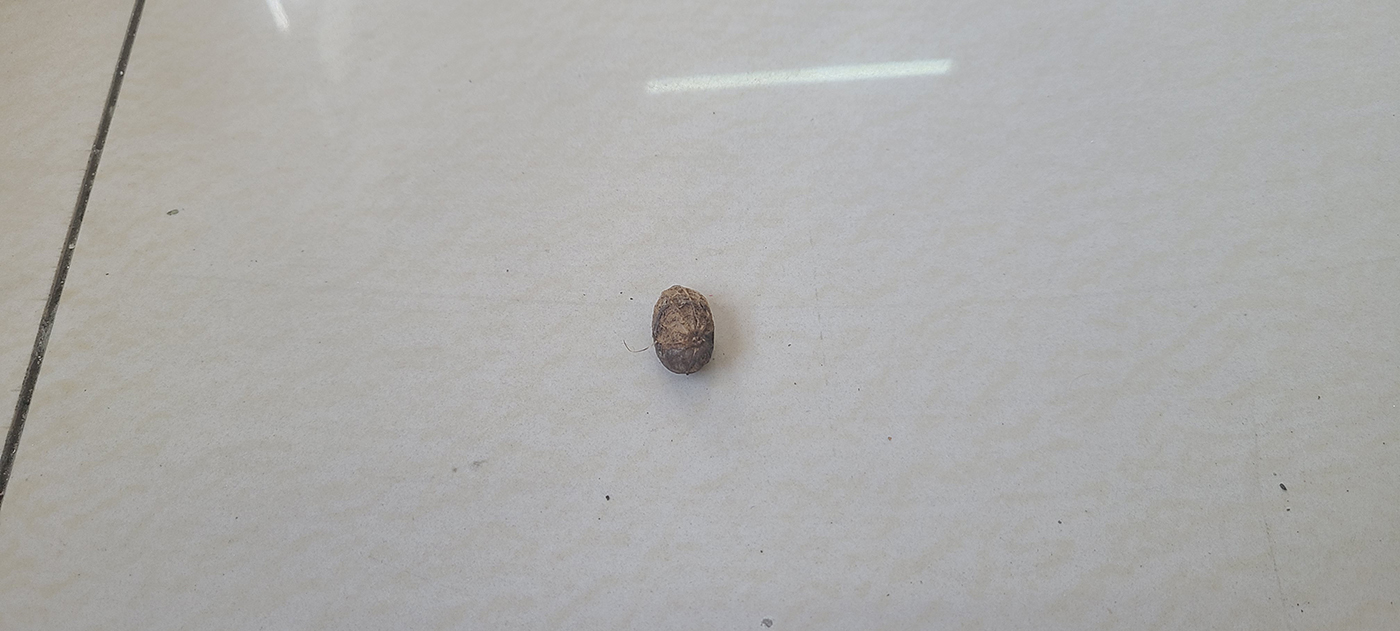l: (649, 282, 716, 374)
